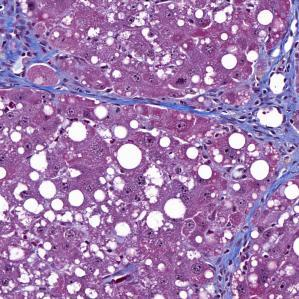fibrosis: (0, 0, 66, 96), (246, 48, 299, 163), (207, 220, 256, 299)
